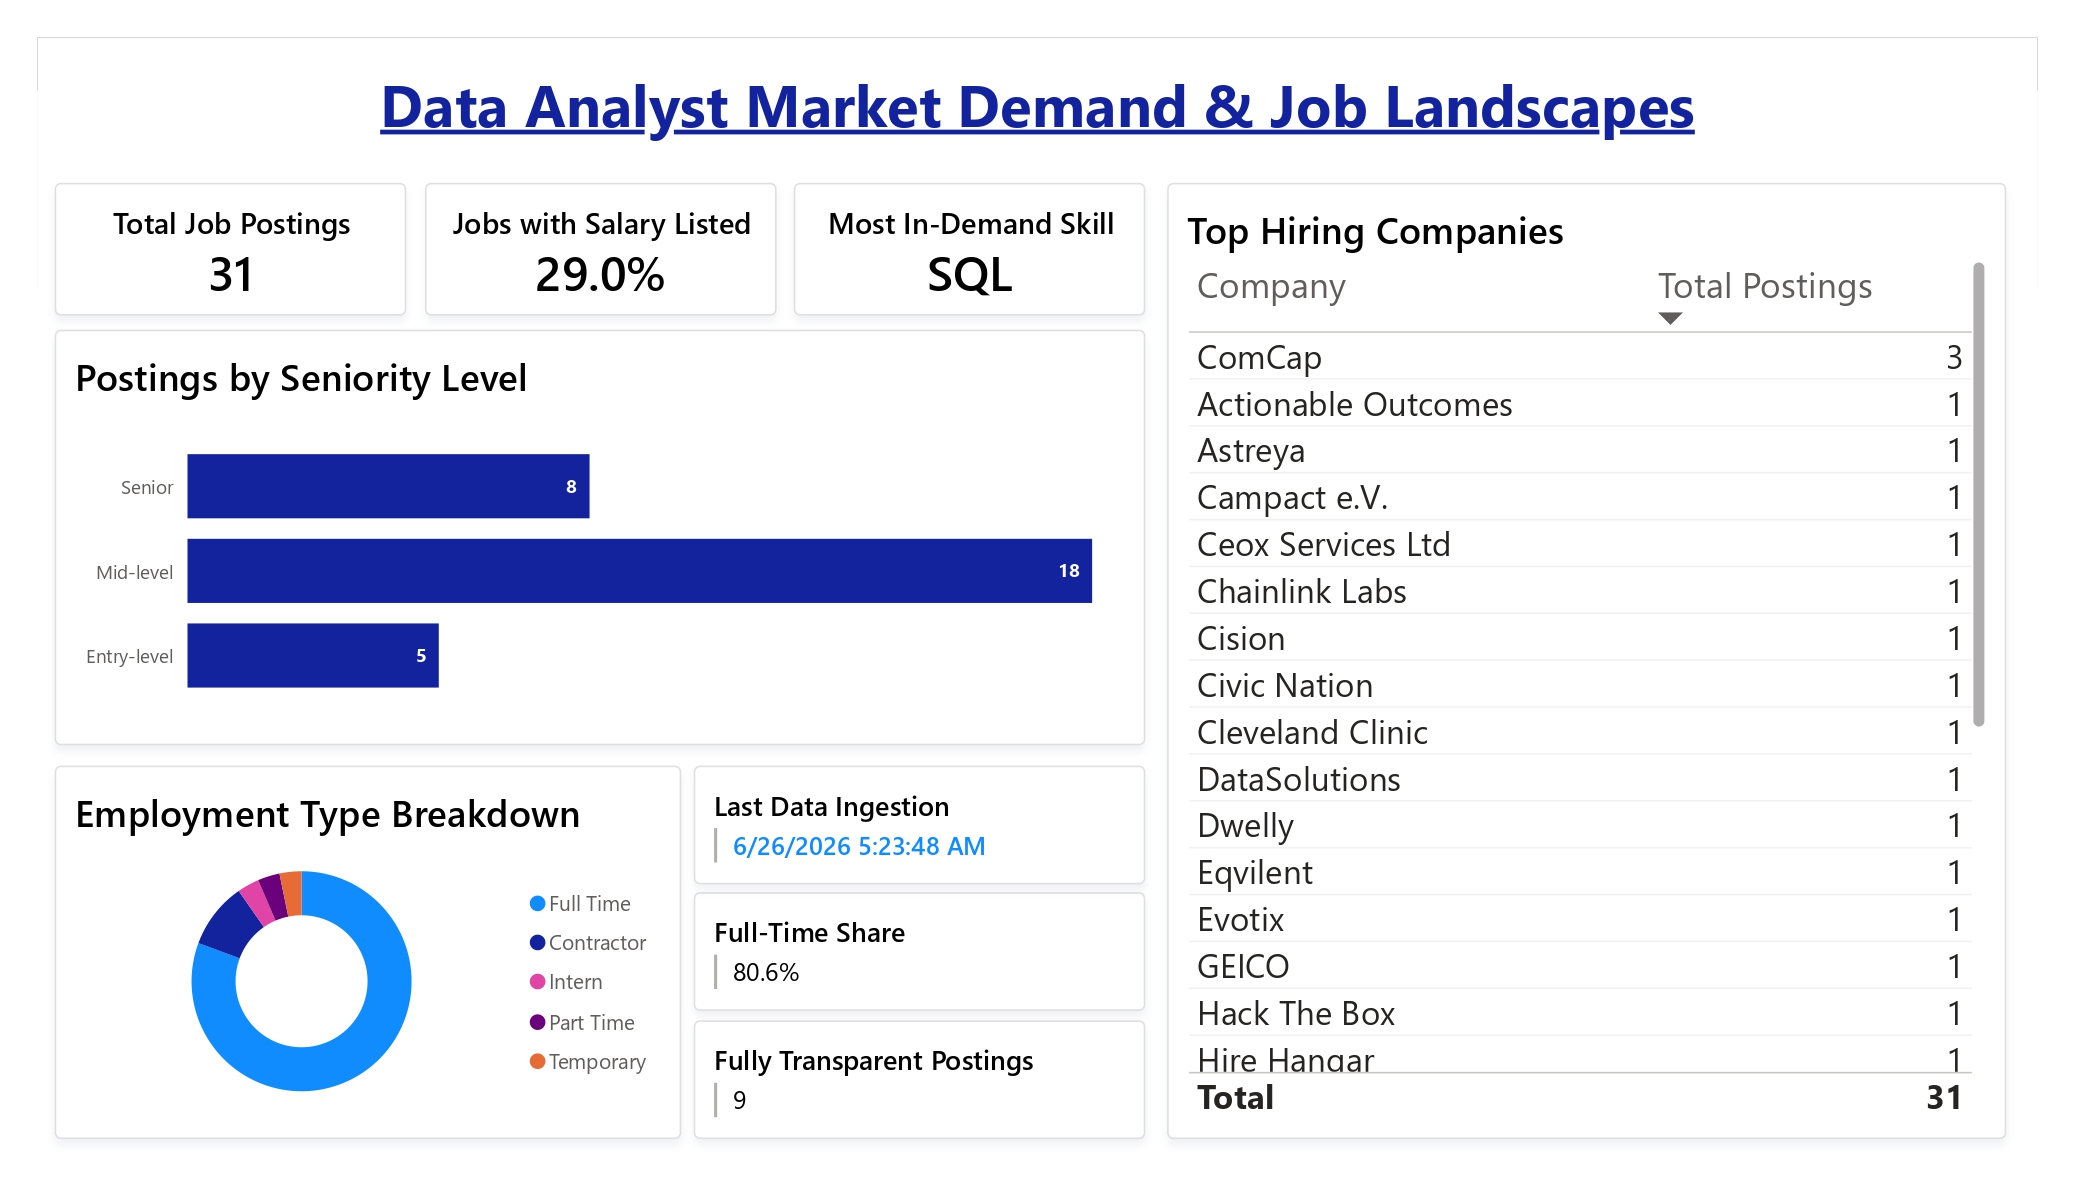

What the dashboard file says about the page in this screenshot:
{"tool":"powerbi","page":{"name":"Market Overview","canvas":[1280,720],"ordinal":0},"visuals":[{"type":"card","title":"Total Job Postings","fields":{"Values":["_Measures.Total Postings"]},"box":[11.2,93.3,225.2,84.6],"z":0},{"type":"card","title":"Jobs with Salary Listed","fields":{"Values":["_Measures.% Jobs With Salary Listed"]},"box":[247.5,93,225.2,84.6],"z":1000},{"type":"clusteredBarChart","title":"Postings by Seniority Level","fields":{"Category":["JobPostings.seniority"],"Y":["_Measures.Total Postings"]},"box":[11.2,186.6,697.9,266.2],"z":2000},{"type":"donutChart","title":"Employment Type Breakdown","fields":{"Category":["JobPostings.employment_type"],"Y":["_Measures.Total Postings"]},"box":[11.2,466.5,400.6,238.8],"z":3000},{"type":"tableEx","title":"Top Hiring Companies","fields":{"Values":["JobPostings.company_name","_Measures.Total Postings"]},"box":[722.7,93.3,537.4,612],"z":4000},{"type":"textbox","box":[151.7,12.4,976.5,65.9],"z":5000},{"type":"card","title":"Most In-Demand Skill","fields":{"Values":["_Measures.Top Skill"]},"box":[483.9,93.3,225.2,84.6],"z":6000},{"type":"multiRowCard","title":"Full-Time Share","fields":{"Values":["_Measures.Full-Time Share"]},"box":[420.5,547.3,288.6,75.9],"z":7000},{"type":"multiRowCard","title":"Last Data Ingestion","fields":{"Values":["_Measures.Last Data Ingestion"]},"box":[420.5,466.5,288.6,75.9],"z":8000},{"type":"multiRowCard","title":"Fully Transparent Postings","fields":{"Values":["_Measures.Fully Transparent Postings"]},"box":[420.5,629.4,288.6,75.9],"z":9000}]}

Visuals, with their boxes on the page's 1280x720 design canvas (x1, y1, x2, y2). These are canvas units, not pixel positions in the 2075x1200 screenshot, which may show the page scaled, cropped or inside an application window:
"Total Job Postings" card: {"x1": 11, "y1": 93, "x2": 236, "y2": 178}
"Jobs with Salary Listed" card: {"x1": 248, "y1": 93, "x2": 473, "y2": 178}
"Postings by Seniority Level" clusteredBarChart: {"x1": 11, "y1": 187, "x2": 709, "y2": 453}
"Employment Type Breakdown" donutChart: {"x1": 11, "y1": 466, "x2": 412, "y2": 705}
"Top Hiring Companies" tableEx: {"x1": 723, "y1": 93, "x2": 1260, "y2": 705}
textbox: {"x1": 152, "y1": 12, "x2": 1128, "y2": 78}
"Most In-Demand Skill" card: {"x1": 484, "y1": 93, "x2": 709, "y2": 178}
"Full-Time Share" multiRowCard: {"x1": 420, "y1": 547, "x2": 709, "y2": 623}
"Last Data Ingestion" multiRowCard: {"x1": 420, "y1": 466, "x2": 709, "y2": 542}
"Fully Transparent Postings" multiRowCard: {"x1": 420, "y1": 629, "x2": 709, "y2": 705}
